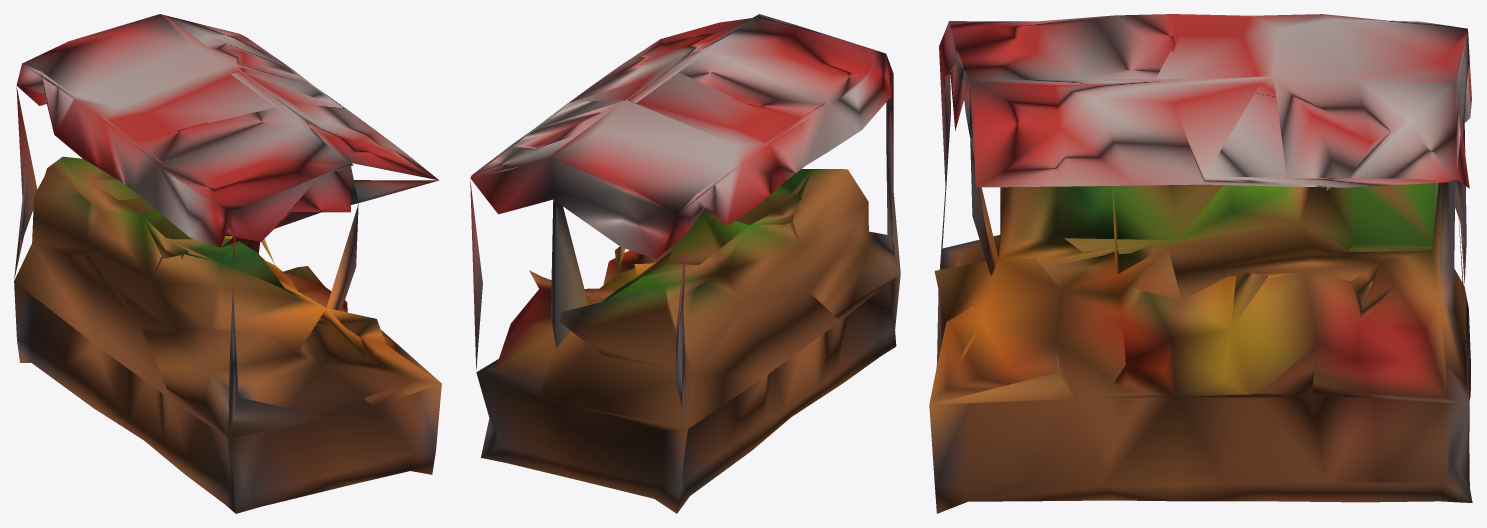
The model's file is st_fruit_lo.glb.
3 views of the same model, side by side, from view 1: azimuth 30°, elevation 25°; view 2: azimuth 150°, elevation 25°; view 3: azimuth 270°, elevation 25° (orthographic). The views are drawn at different scales.
Visible parts, largest first — view 1: tripo_node_02b7d9de-eb7b-4ca8-b3b8-b99d1c27fa93; view 2: tripo_node_02b7d9de-eb7b-4ca8-b3b8-b99d1c27fa93; view 3: tripo_node_02b7d9de-eb7b-4ca8-b3b8-b99d1c27fa93.
Part boxes in pixels (x1,y1,x2,y2): tripo_node_02b7d9de-eb7b-4ca8-b3b8-b99d1c27fa93: (14,14,441,513); tripo_node_02b7d9de-eb7b-4ca8-b3b8-b99d1c27fa93: (470,14,900,513); tripo_node_02b7d9de-eb7b-4ca8-b3b8-b99d1c27fa93: (929,14,1472,513).
Size of the model in its own units: 0.5891 by 0.8003 by 0.9856.
